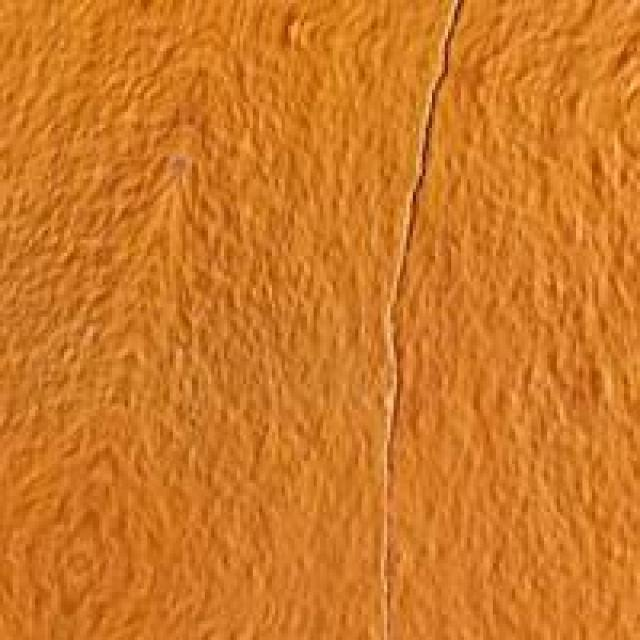Crack: (343, 3, 548, 464)
